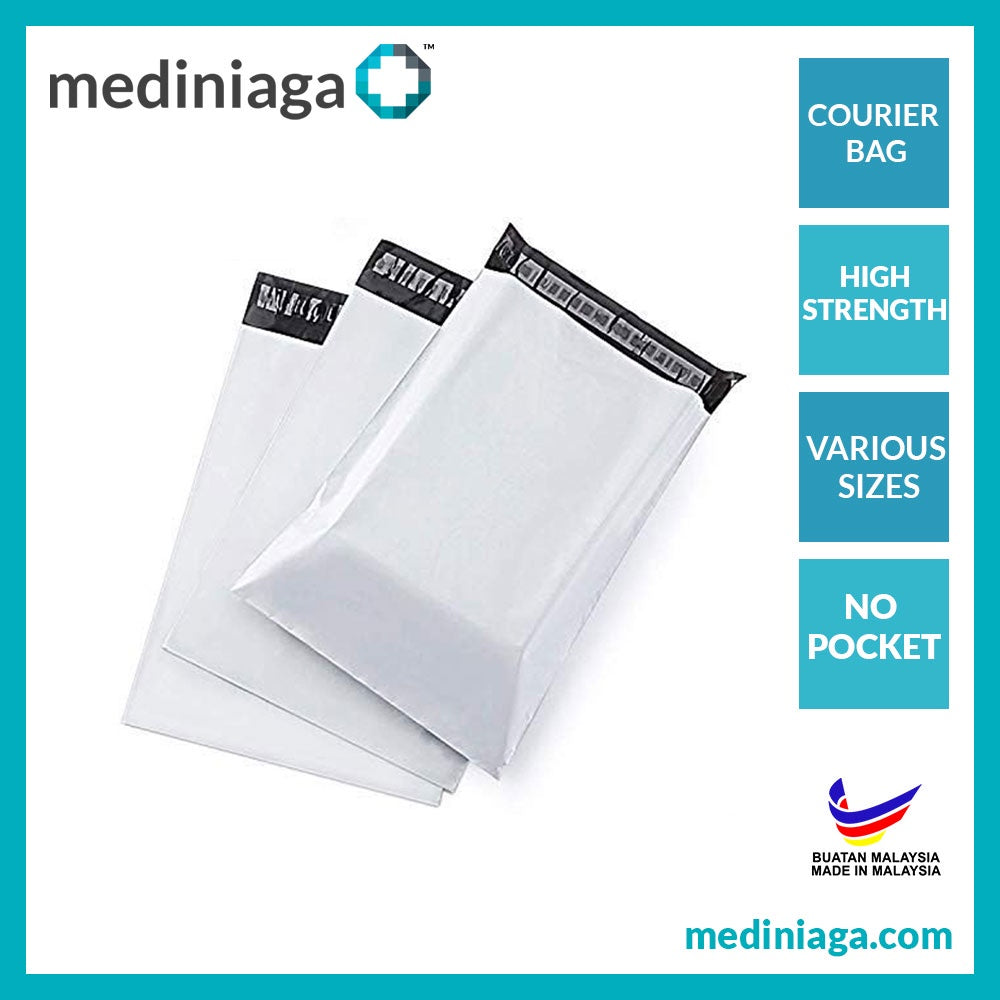塑料袋: (233, 233, 743, 776), (122, 241, 471, 804)
